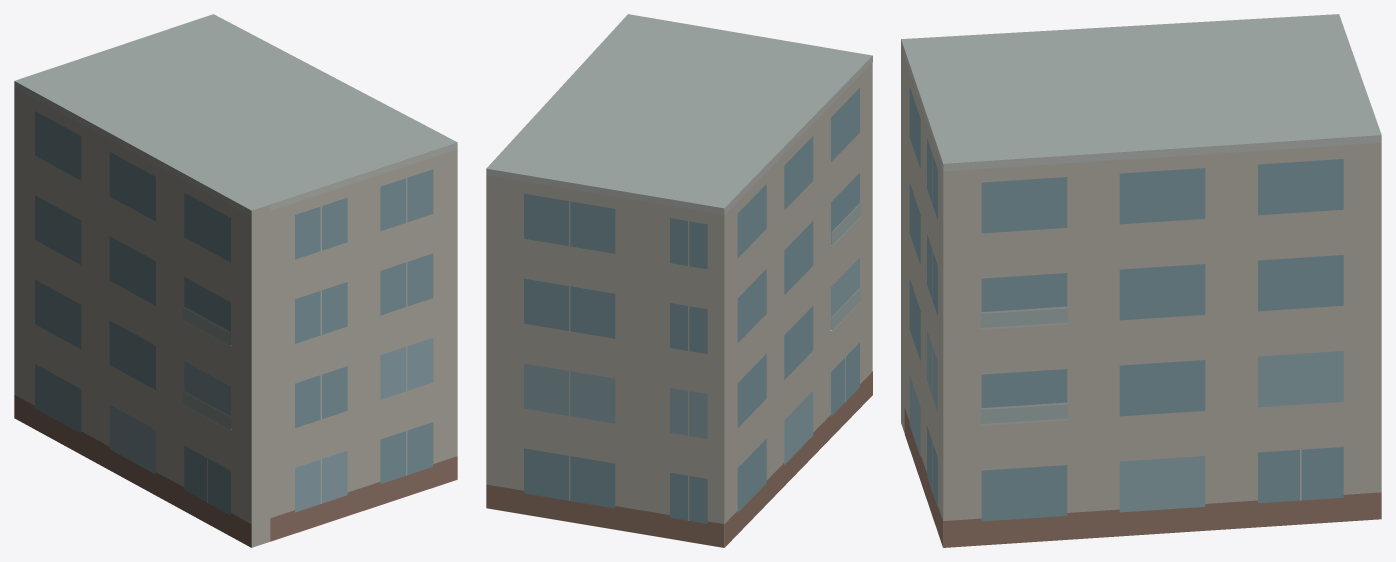
File: survey-upis-32716152.glb
3 views of the same model, side by side, from view 1: azimuth 30°, elevation 25°; view 2: azimuth 150°, elevation 25°; view 3: azimuth 270°, elevation 25° (orthographic). The views are drawn at different scales.
Parts seen in each view (by area): view 1: survey-upis-32716152.tmp; view 2: survey-upis-32716152.tmp; view 3: survey-upis-32716152.tmp.
Boxes of the visible parts, box(x1,y1,x2,y2) form: survey-upis-32716152.tmp: box(14, 14, 457, 547); survey-upis-32716152.tmp: box(486, 14, 872, 547); survey-upis-32716152.tmp: box(901, 14, 1381, 547).
Size of the model in its own units: 10.22 by 12.2 by 13.85.
